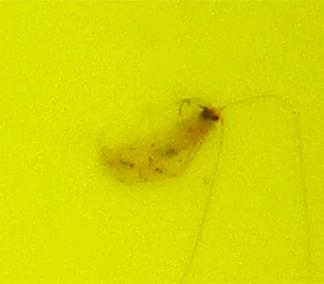Plecoptera: (100, 100, 224, 184)
